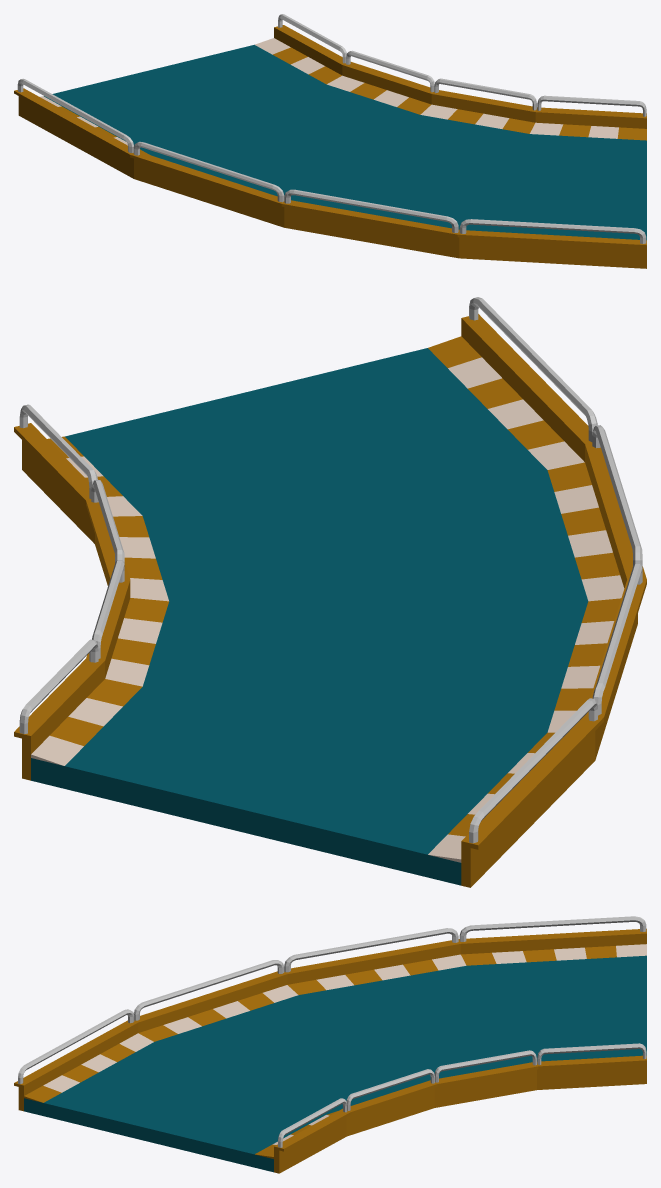
Rendered from curveLeft-60_m.FBX.
3 renders of one model, top to bottom at view 1: azimuth 30°, elevation 25°; view 2: azimuth 150°, elevation 25°; view 3: azimuth 270°, elevation 25°, orthographic. The views are drawn at different scales.
Visible parts, largest first — view 1: curveLeft-60_m, wall_r, wall_l, curbs_l; view 2: curveLeft-60_m, wall_r, curbs_r, wall_l, curbs_l; view 3: curveLeft-60_m, wall_r, wall_l, curbs_r.
Boxes of the visible parts, x1=… form: curveLeft-60_m: x1=44, y1=44, x2=646, y2=240; wall_r: x1=14, y1=78, x2=646, y2=268; wall_l: x1=274, y1=14, x2=646, y2=128; curbs_l: x1=255, y1=38, x2=646, y2=140; curveLeft-60_m: x1=31, y1=348, x2=588, y2=885; wall_r: x1=461, y1=297, x2=646, y2=887; curbs_r: x1=428, y1=336, x2=624, y2=862; wall_l: x1=14, y1=404, x2=130, y2=780; curbs_l: x1=31, y1=436, x2=169, y2=765; curveLeft-60_m: x1=24, y1=955, x2=646, y2=1172; wall_r: x1=14, y1=916, x2=646, y2=1111; wall_l: x1=274, y1=1043, x2=646, y2=1173; curbs_r: x1=24, y1=944, x2=646, y2=1102.
Size of what is drawn, in the model's own units: 346 by 29.31 by 420.
